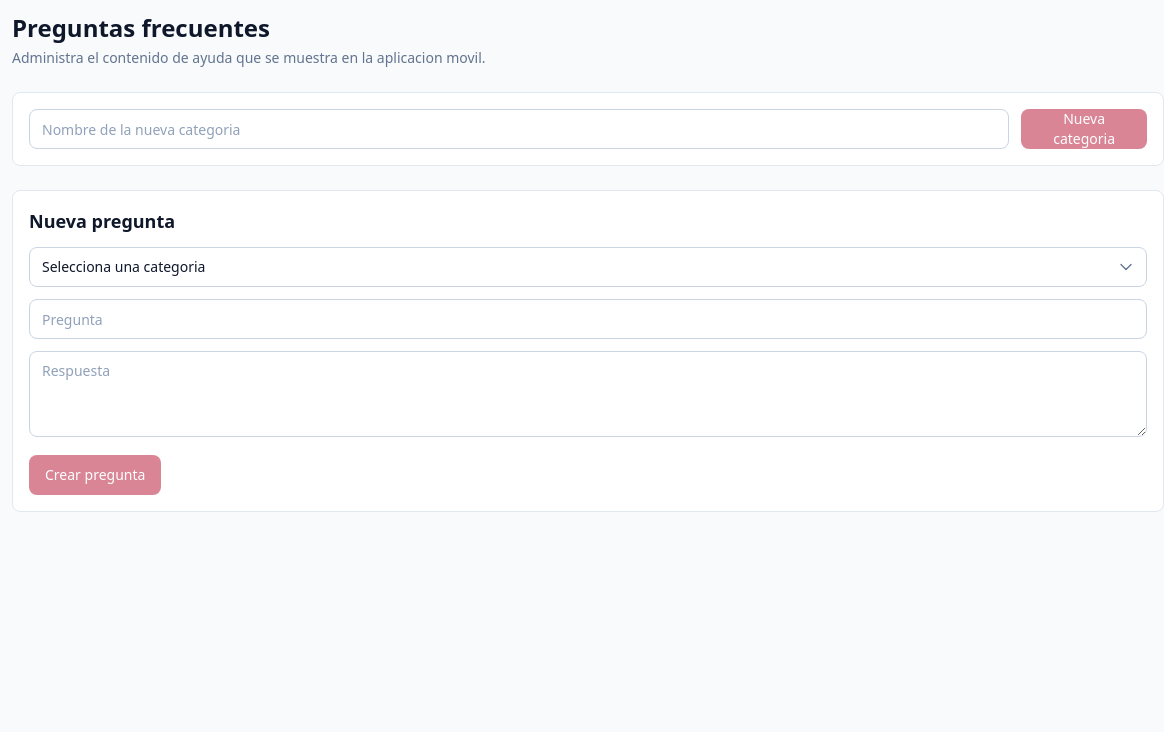
FaqPage › permite crear una nueva categoria
Type "Reservas" into the field labelled "Nombre de la nueva categoria".
click(519, 129); type("Reservas")  # box [29,109,1009,149]
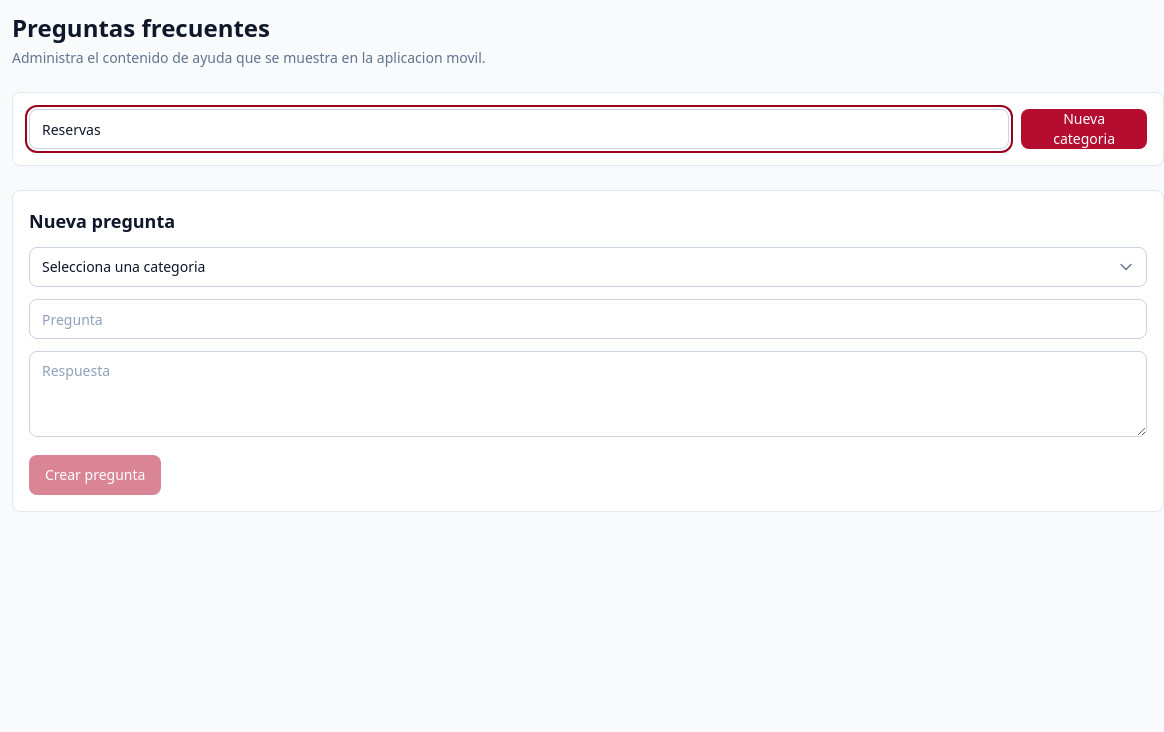
Click the button "Nueva categoria".
click(1084, 129)  # box [1021,109,1147,149]
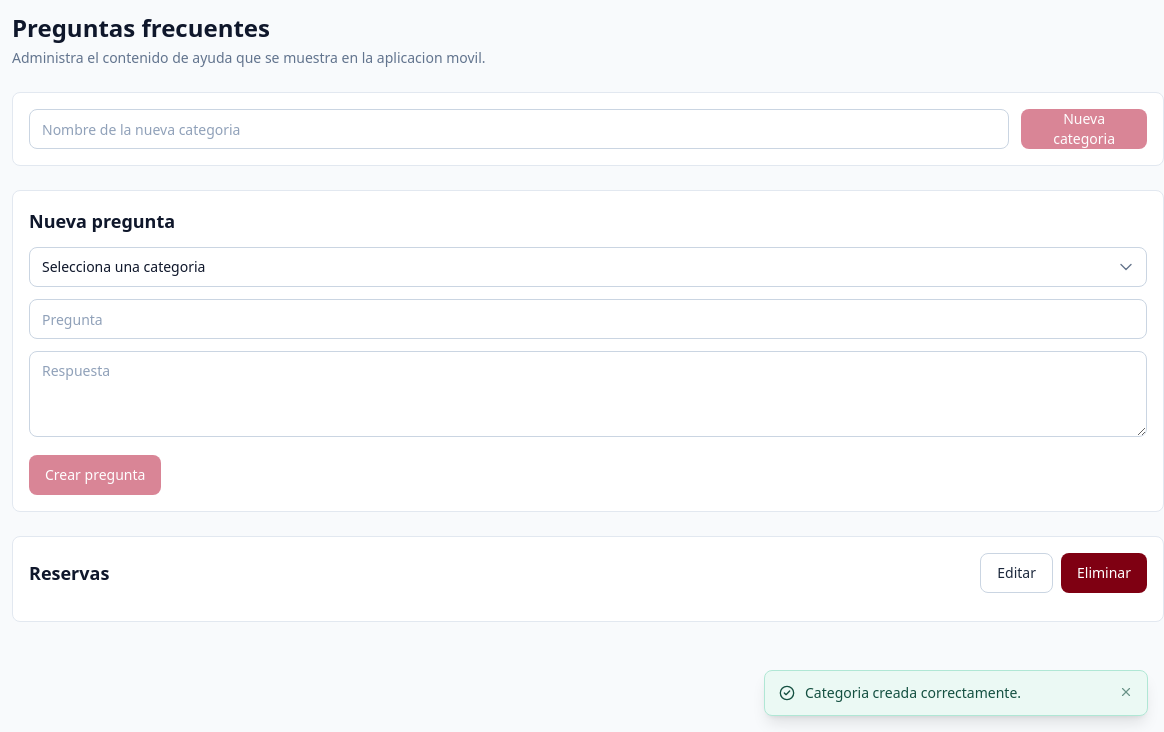
expect the heading "Reservas" is shown: met, box [29,559,109,587]
